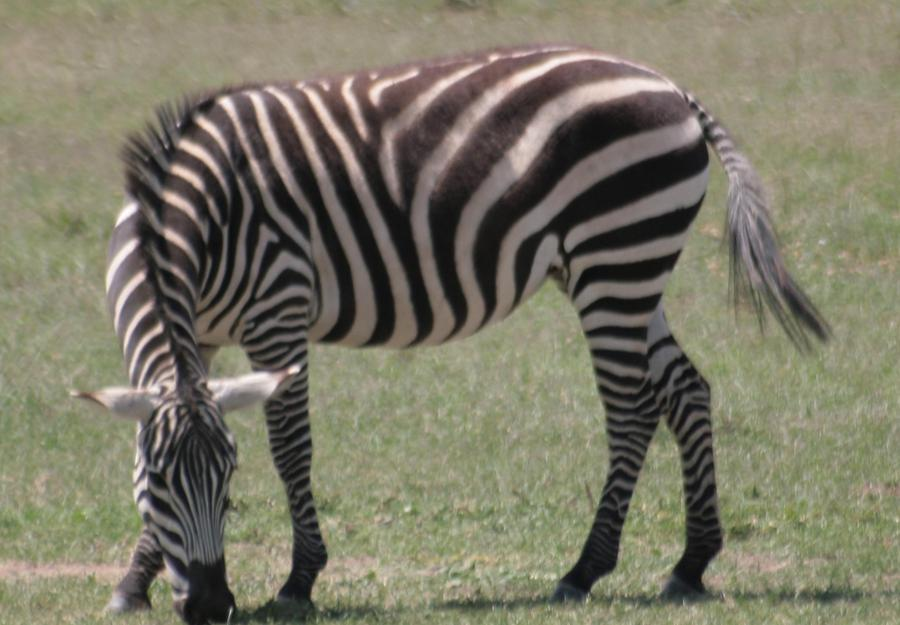zebra_plains: (169, 73, 692, 348)
